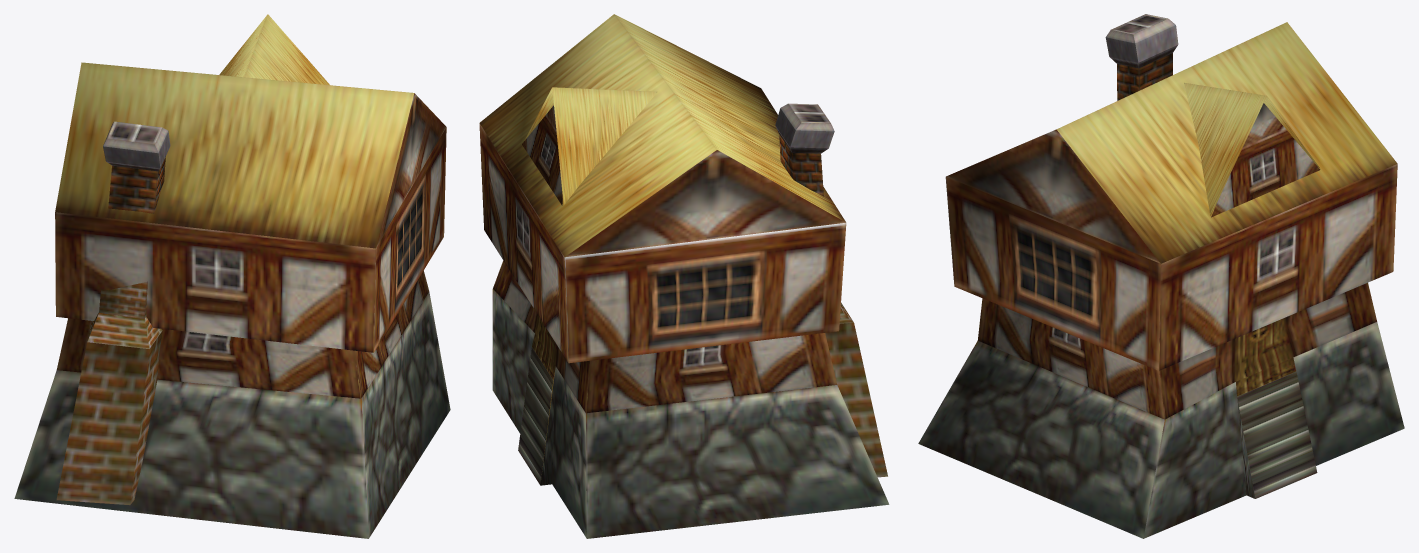
Rendered from pub.obj.
3 views of the same model, side by side, from view 1: azimuth 30°, elevation 25°; view 2: azimuth 150°, elevation 25°; view 3: azimuth 270°, elevation 25° (orthographic).
Parts seen in each view (by area): view 1: Inn(m0); view 2: Inn(m0); view 3: Inn(m0).
Boxes of the visible parts, x1,y1,x2,y2 form: Inn(m0): [14, 14, 450, 538]; Inn(m0): [479, 14, 889, 538]; Inn(m0): [918, 14, 1404, 538].
Size of the model in its own units: 13.56 by 11.66 by 13.41.
1 material, 1 textured.
